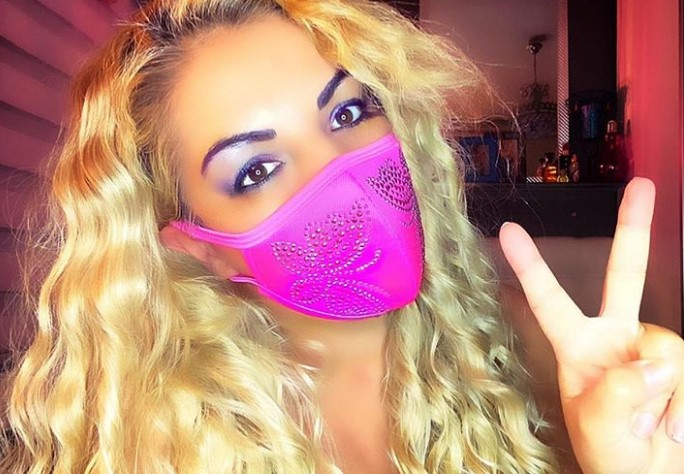face_with_mask: (120, 7, 433, 321)
